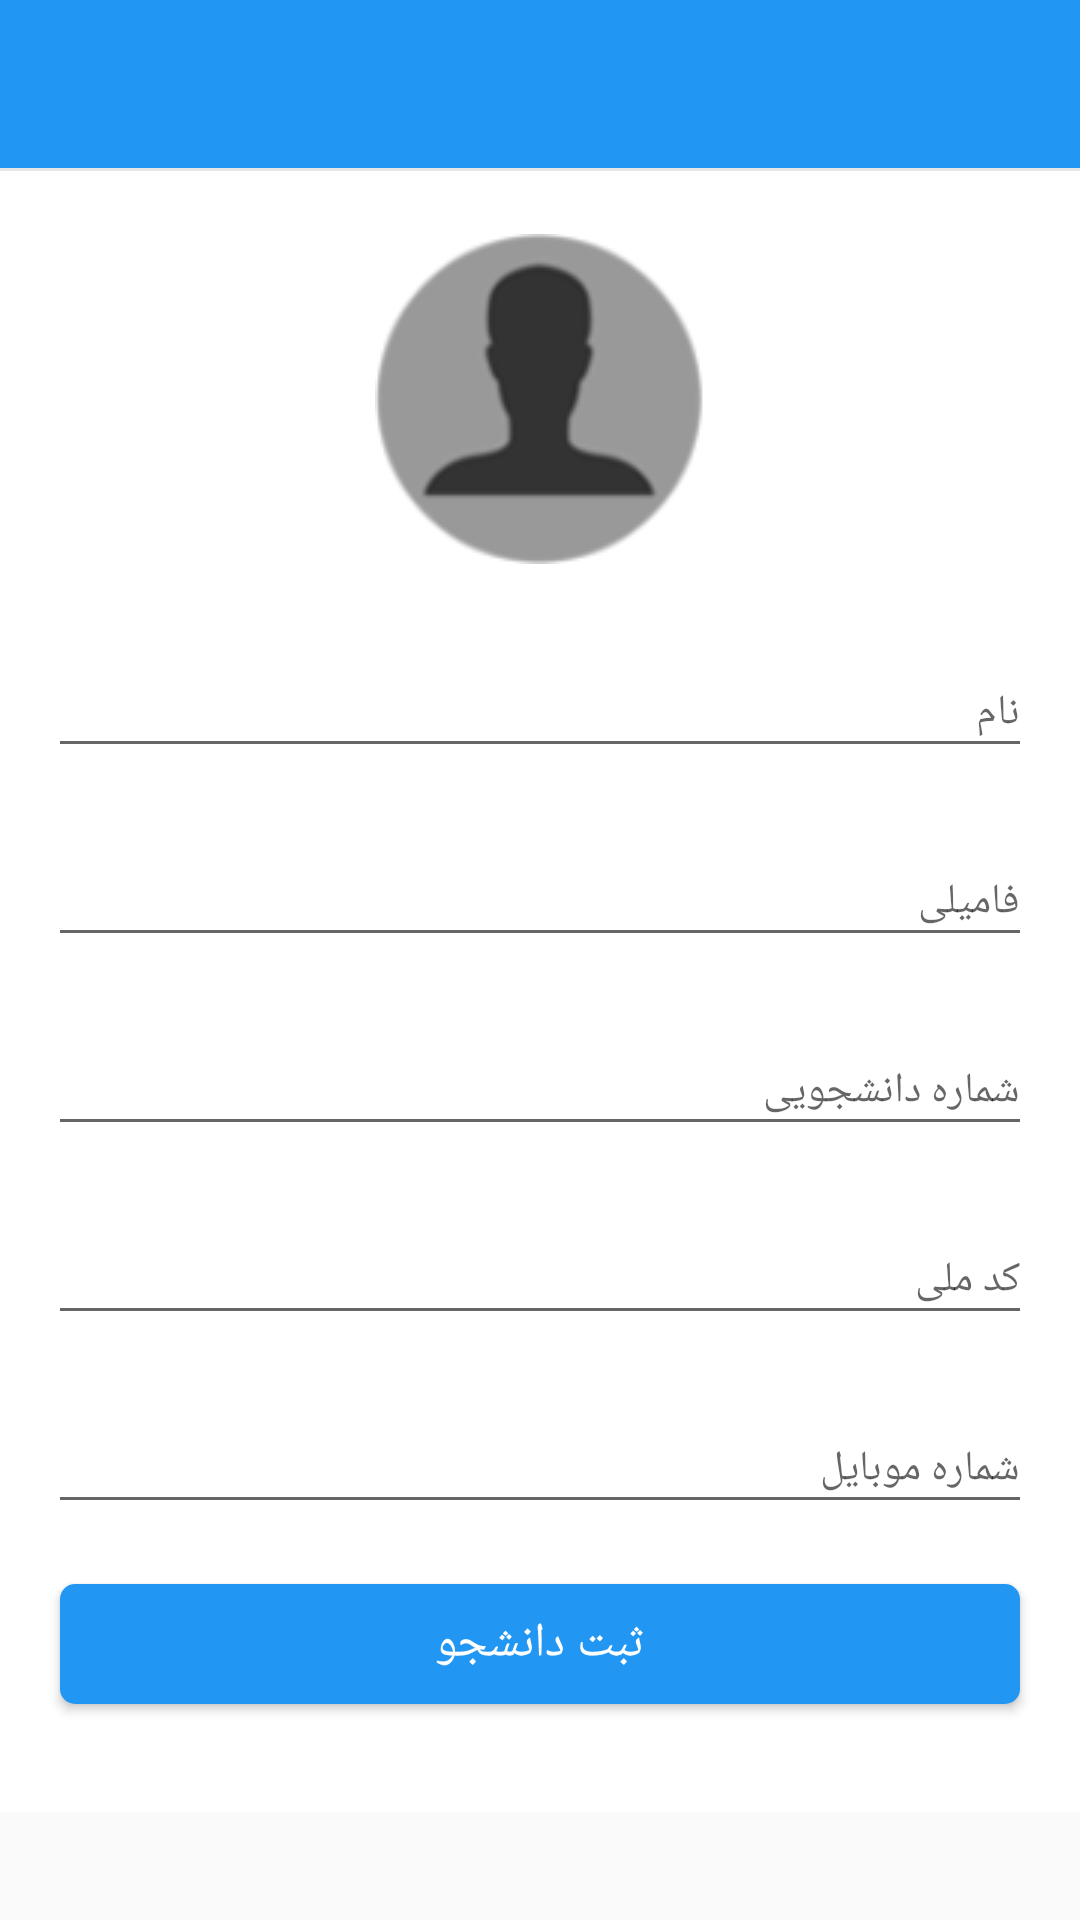

Icons on this 1080x1920 Android screen, each with the point to tap as point (x, y):
personnoimage: point (538, 399)
